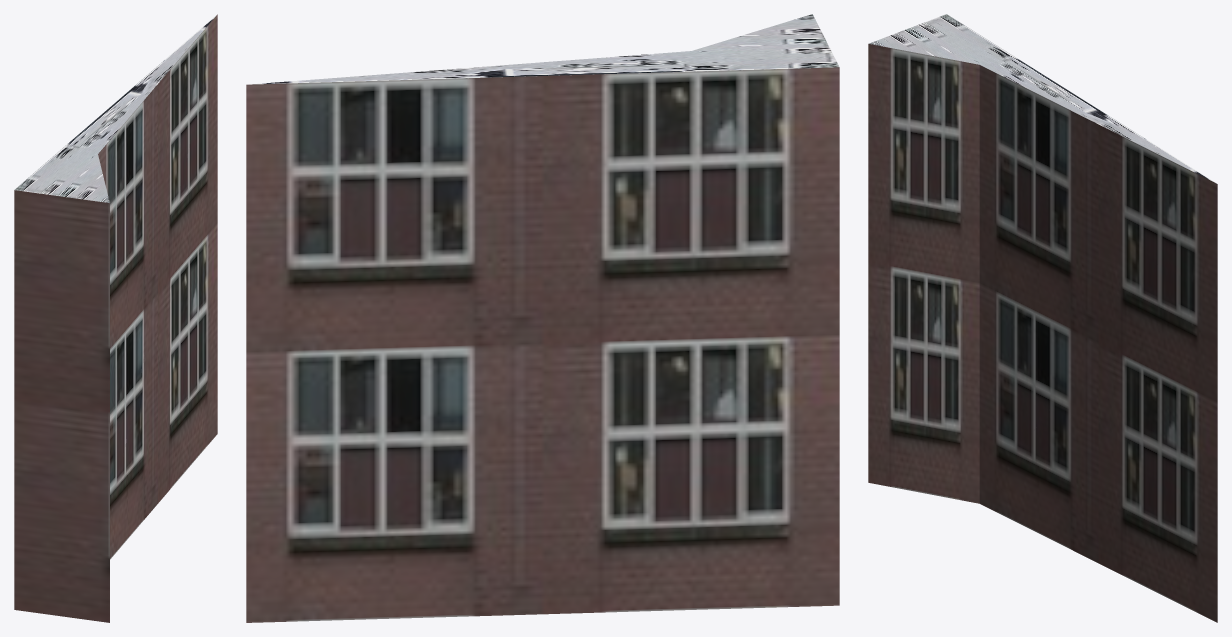
The model's file is ResTex__4159.fbx.
The picture shows the model from 3 angles, left to right: view 1: azimuth 30°, elevation 25°; view 2: azimuth 150°, elevation 25°; view 3: azimuth 270°, elevation 25°; orthographic projection. The views are drawn at different scales.
Visible parts, largest first — view 1: CityEngineMaterial_12_m, CityEngineMaterial_m; view 2: CityEngineMaterial_12_m, CityEngineMaterial_m; view 3: CityEngineMaterial_12_m, CityEngineMaterial_m.
Part boxes in pixels (box(x1,y1,x2,y2)): CityEngineMaterial_12_m: box(14, 14, 217, 622); CityEngineMaterial_m: box(14, 15, 216, 202); CityEngineMaterial_12_m: box(246, 67, 839, 622); CityEngineMaterial_m: box(249, 14, 839, 84); CityEngineMaterial_12_m: box(868, 44, 1217, 622); CityEngineMaterial_m: box(869, 14, 1216, 183).
Size of the model in its own units: 4.98 by 6 by 4.32.
2 materials, 2 textured.
